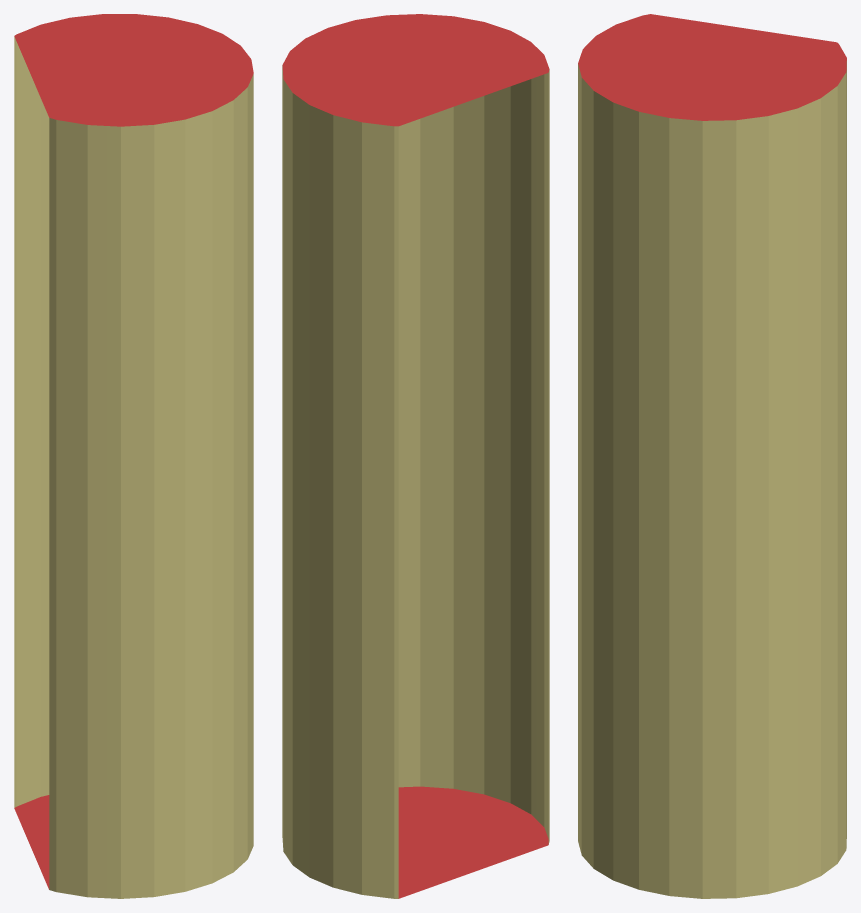
The picture shows the model from 3 angles, left to right: view 1: azimuth 30°, elevation 25°; view 2: azimuth 150°, elevation 25°; view 3: azimuth 270°, elevation 25°; orthographic projection.
Bounding box in the file's own units: 3.46 × 3.68 × 11.73.
